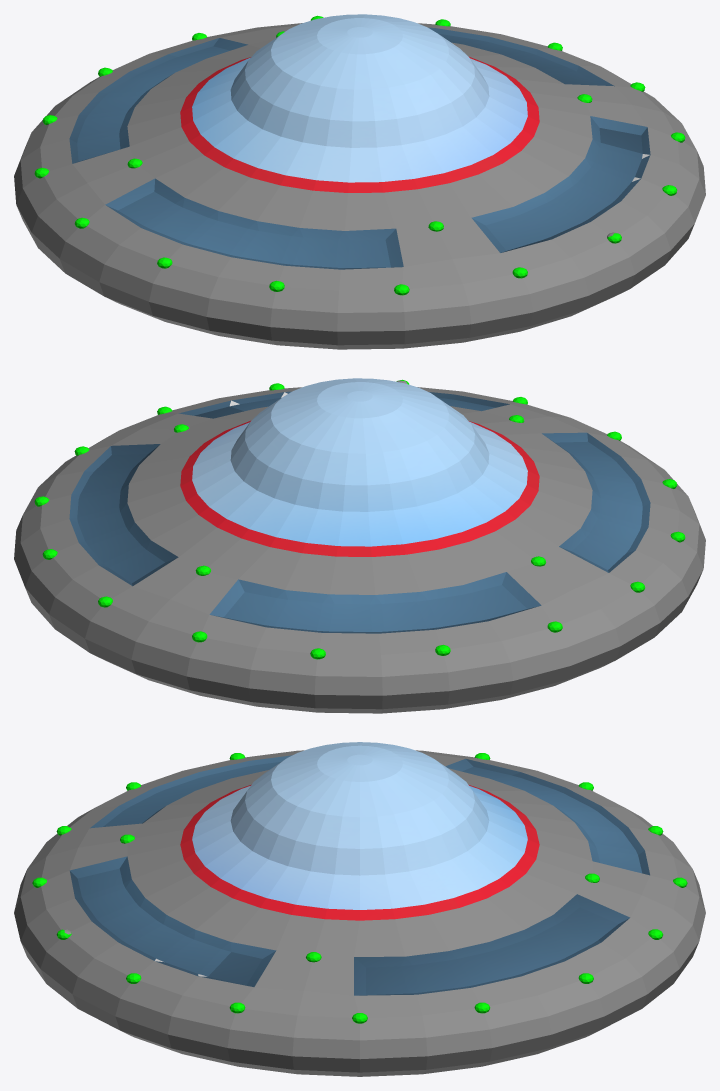
The model's file is ufo.fbx.
3 views of the same model, one above another, from view 1: azimuth 30°, elevation 25°; view 2: azimuth 150°, elevation 25°; view 3: azimuth 270°, elevation 25° (orthographic).
Visible parts, largest first — view 1: ufo; view 2: ufo; view 3: ufo.
Boxes of the visible parts, <box> form: ufo: <box>14,14,705,349</box>; ufo: <box>14,378,705,713</box>; ufo: <box>14,742,705,1076</box>.
Size of the model in its own units: 200 by 71.92 by 200.
